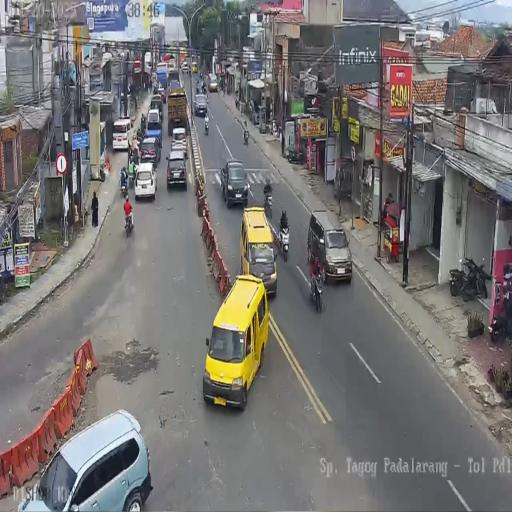car: (15, 410, 150, 510), (201, 274, 268, 408), (239, 206, 277, 297), (308, 210, 350, 286), (220, 158, 249, 208), (166, 150, 188, 190), (134, 162, 156, 201), (112, 117, 133, 153), (139, 136, 161, 166), (147, 106, 162, 134), (194, 93, 208, 117), (157, 84, 165, 102), (209, 78, 218, 93), (181, 62, 189, 74), (192, 62, 198, 74)
motorcycle: (449, 256, 491, 301), (489, 301, 510, 342), (278, 218, 290, 259), (286, 146, 304, 165), (124, 208, 134, 236), (128, 165, 138, 188), (119, 176, 128, 197), (204, 116, 210, 135), (243, 127, 249, 145), (188, 67, 193, 79), (202, 80, 206, 94), (196, 79, 199, 92), (200, 70, 203, 80)
truck: (166, 78, 188, 137), (156, 63, 169, 89)
